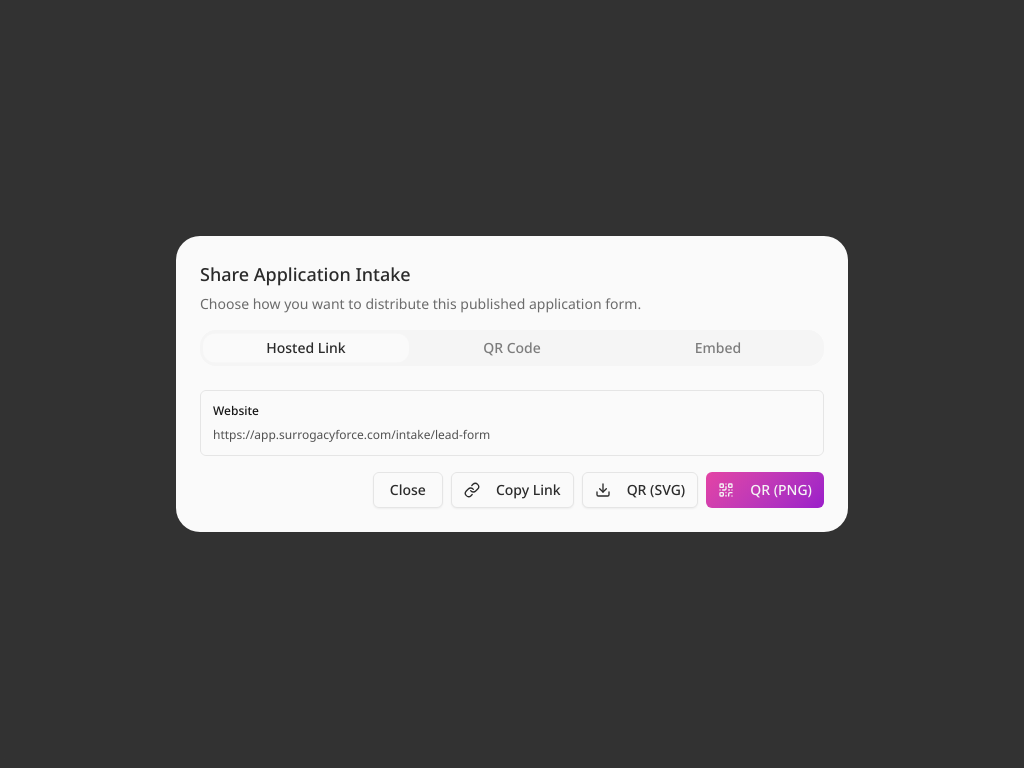
Test: ShareApplicationDialog › renders embed health check time as a stable calendar date
What coordinates should you click on to do the following:
click the tab "Embed"
I would click on:
 (718, 348)
Its box is [615, 334, 821, 362].
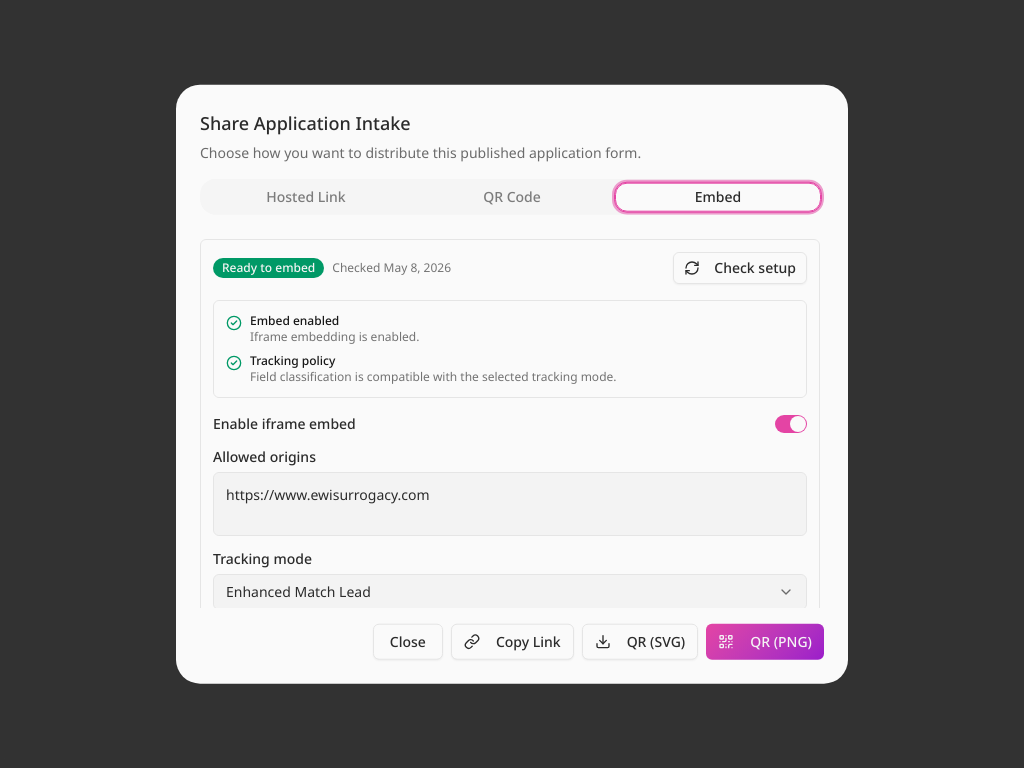
Check: the text "May 8, 2026" is shown, box [384, 259, 451, 276]
